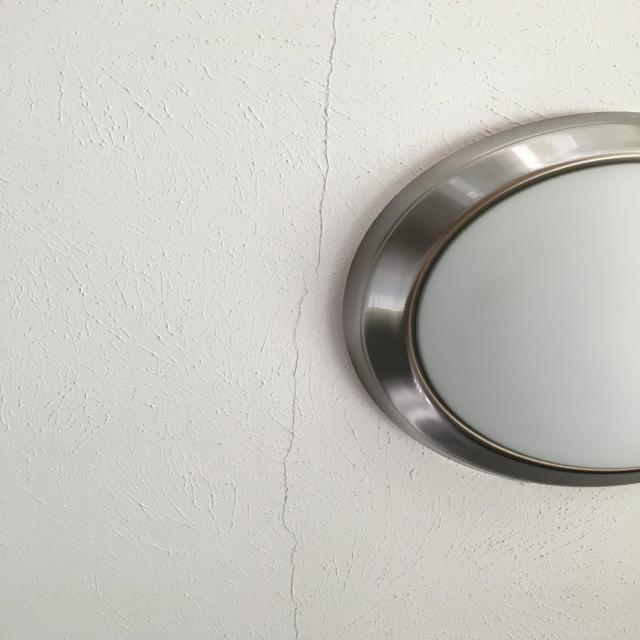leak: (281, 271, 312, 640), (319, 0, 341, 282)
